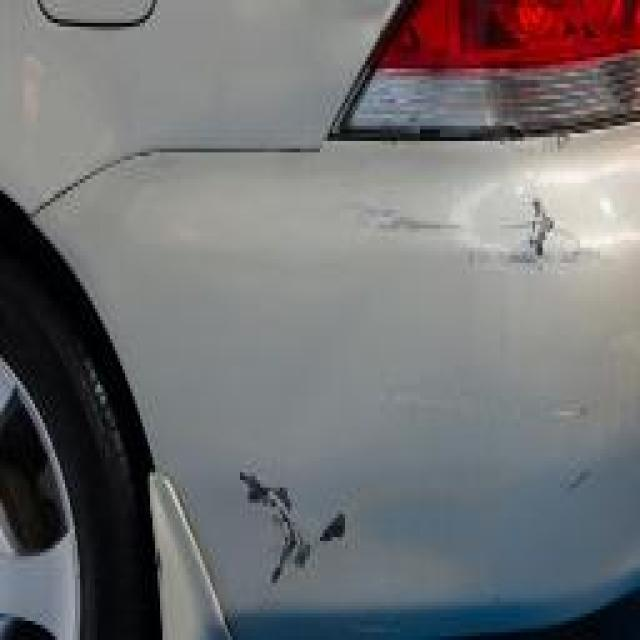Bumper: (80, 149, 640, 640)
